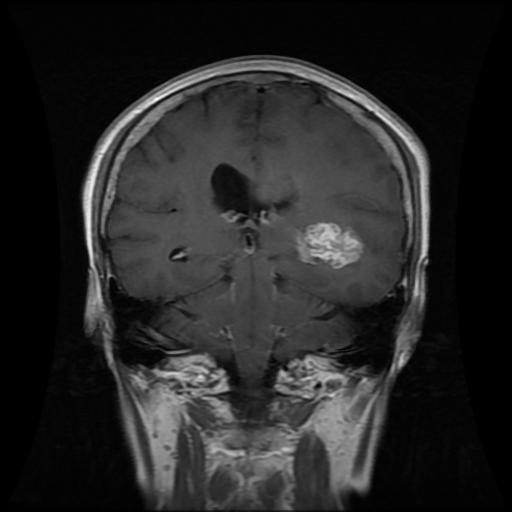Gliomia_tumour: (295, 222, 365, 266)
